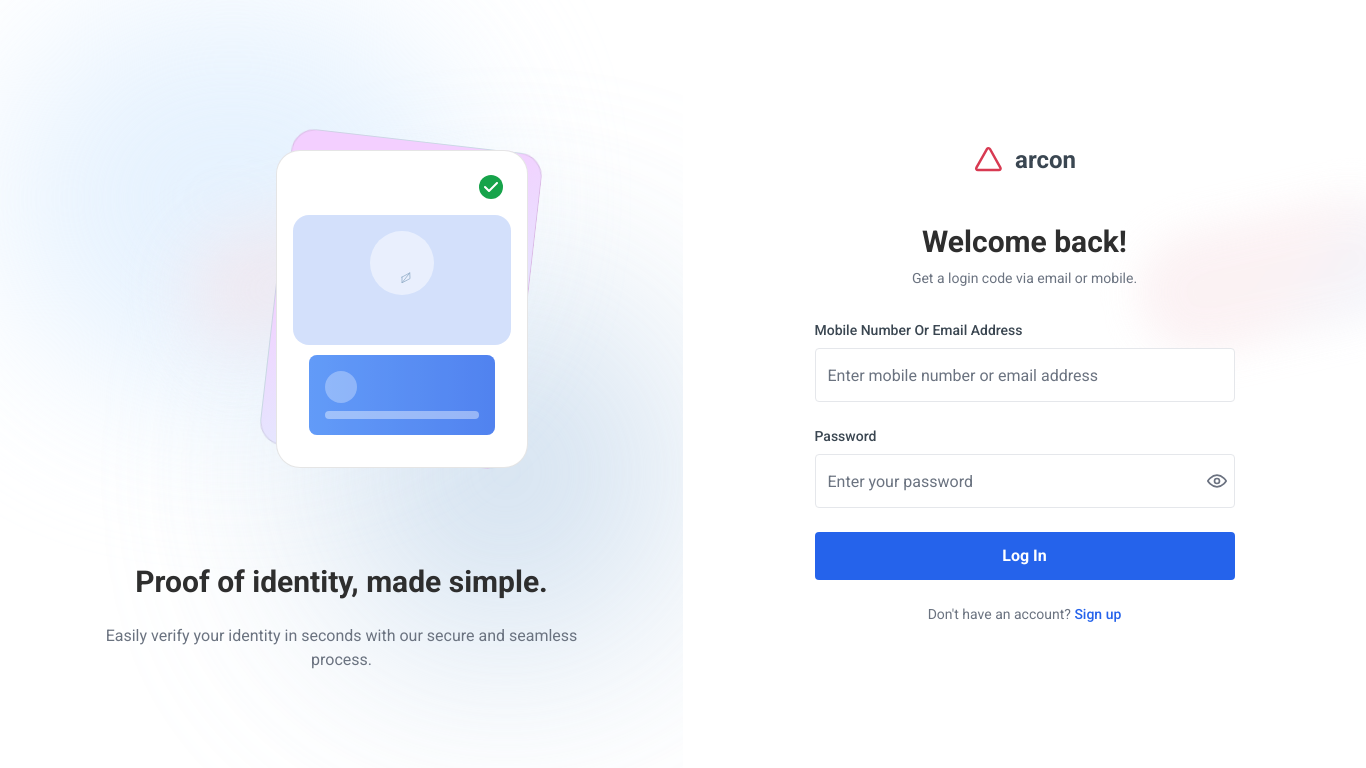
Login page › shows server error message when backend returns 400+
The image size is (1366, 768).
Type "alice@example.com" into the field with placeholder "Enter mobile number or email address". click: (1024, 375)
box: left=814, top=348, right=1234, bottom=402
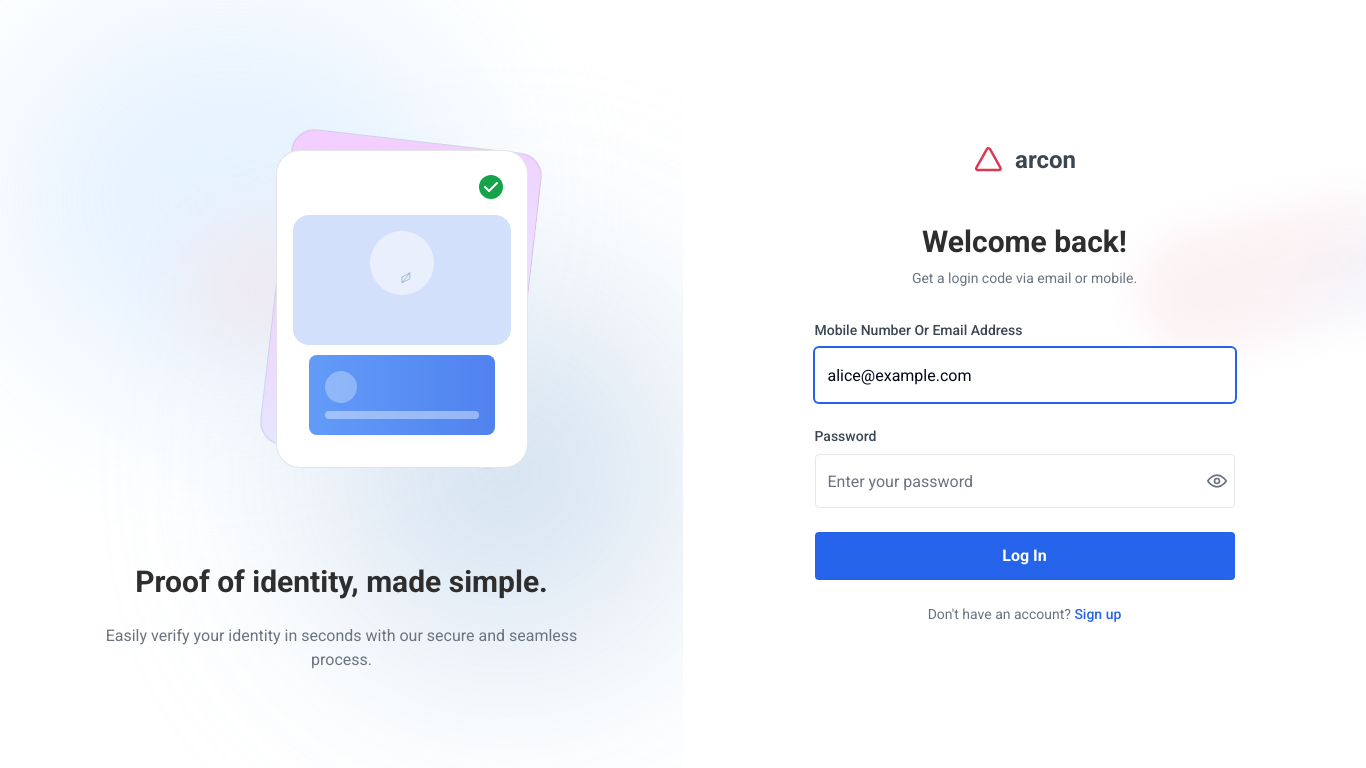
Type "secret1" into the password field with placeholder "Enter your password". click: (1024, 481)
box: left=814, top=454, right=1234, bottom=508
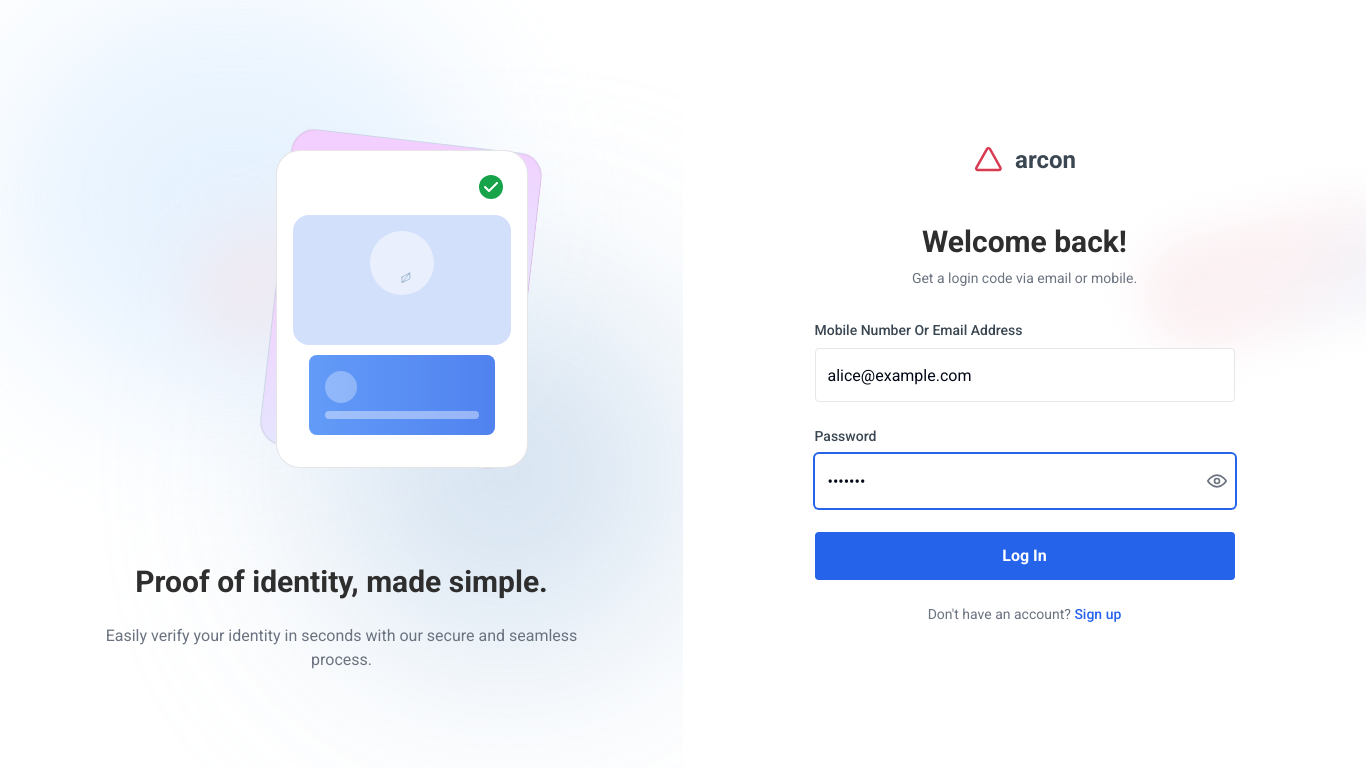
Click the button "Log In". click: (1024, 556)
box: left=814, top=532, right=1234, bottom=580
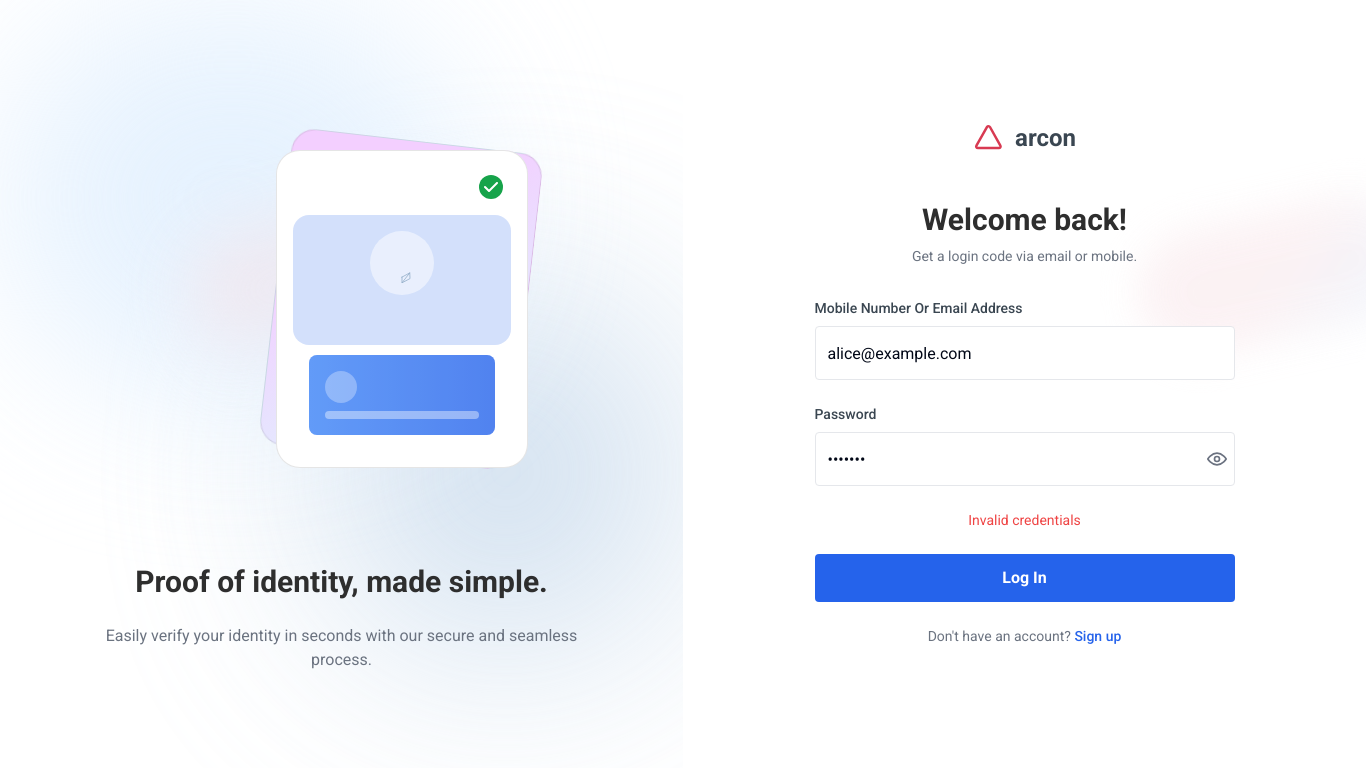
Now the text "Invalid credentials" is shown, box left=968, top=512, right=1081, bottom=528
